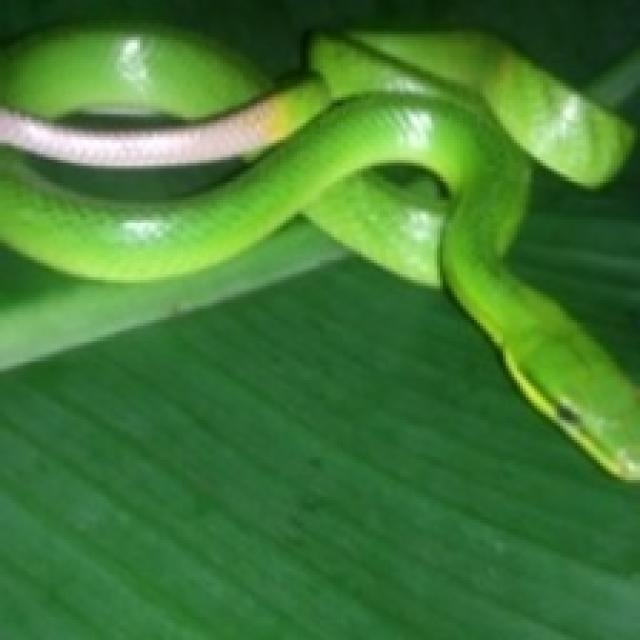red-tailed green ratsnake: (0, 23, 637, 480)
